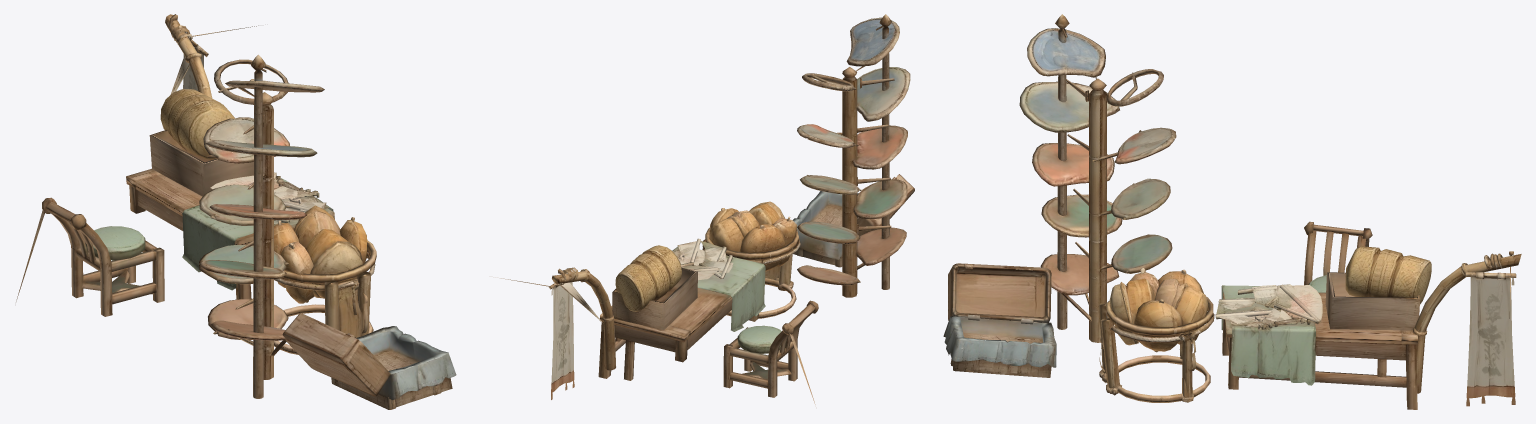
Rendered from 扇子摊.glb.
3 views of the same model, side by side, from view 1: azimuth 30°, elevation 25°; view 2: azimuth 150°, elevation 25°; view 3: azimuth 270°, elevation 25° (orthographic). The views are drawn at different scales.
Parts seen in each view (by area): view 1: tripo_node_657a33c7-aa6b-470c-91e9-e25e319601d1; view 2: tripo_node_657a33c7-aa6b-470c-91e9-e25e319601d1; view 3: tripo_node_657a33c7-aa6b-470c-91e9-e25e319601d1.
Part boxes in pixels (left/top/right/bottom): tripo_node_657a33c7-aa6b-470c-91e9-e25e319601d1: left=16, top=14, right=456, bottom=409; tripo_node_657a33c7-aa6b-470c-91e9-e25e319601d1: left=500, top=14, right=914, bottom=404; tripo_node_657a33c7-aa6b-470c-91e9-e25e319601d1: left=943, top=14, right=1521, bottom=409.
Bounding box in the file's own units: 0.6138 × 0.6196 × 0.9995.
Materials: 1 (1 with a texture image).
